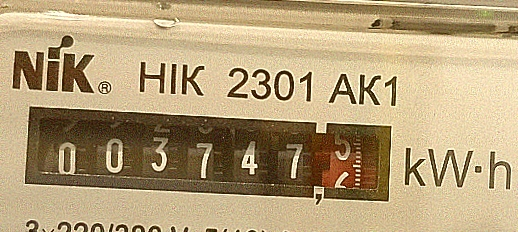0: (102, 135, 124, 174), (54, 140, 78, 175)
3: (148, 135, 168, 173)
4: (237, 137, 259, 178)
5: (331, 132, 352, 162)
6: (330, 168, 350, 190)
7: (281, 140, 304, 180), (192, 140, 213, 180)
screen: (14, 95, 406, 217)
